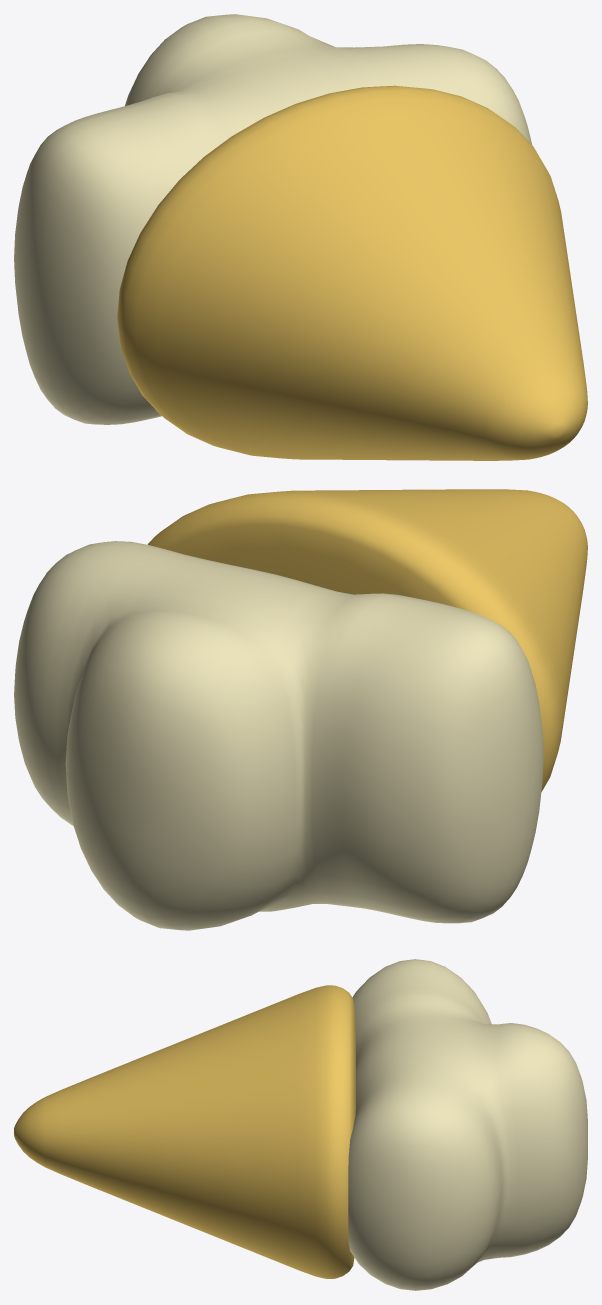
File: 冰淇凌(1).fbx
3 views of the same model, one above another, from view 1: azimuth 30°, elevation 25°; view 2: azimuth 150°, elevation 25°; view 3: azimuth 270°, elevation 25° (orthographic). The views are drawn at different scales.
Visible parts, largest first — view 1: bingqiling; view 2: bingqiling; view 3: bingqiling.
Part boxes in pixels (x1,y1,x2,y2): bingqiling: (14, 14, 587, 460); bingqiling: (14, 489, 587, 930); bingqiling: (14, 959, 587, 1290).
Size of the model in its own units: 8.23 by 5.63 by 11.62.
